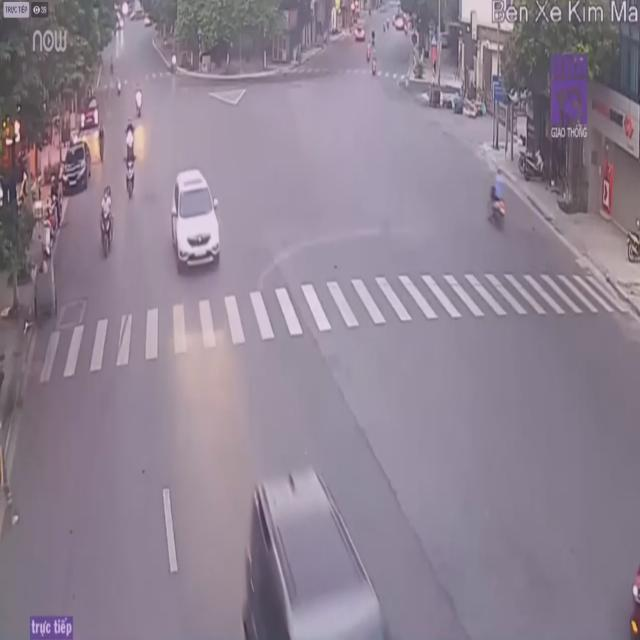car: (239, 474, 416, 640), (170, 164, 224, 274)
motorbike: (97, 185, 118, 258), (486, 166, 508, 229), (124, 145, 140, 204)
